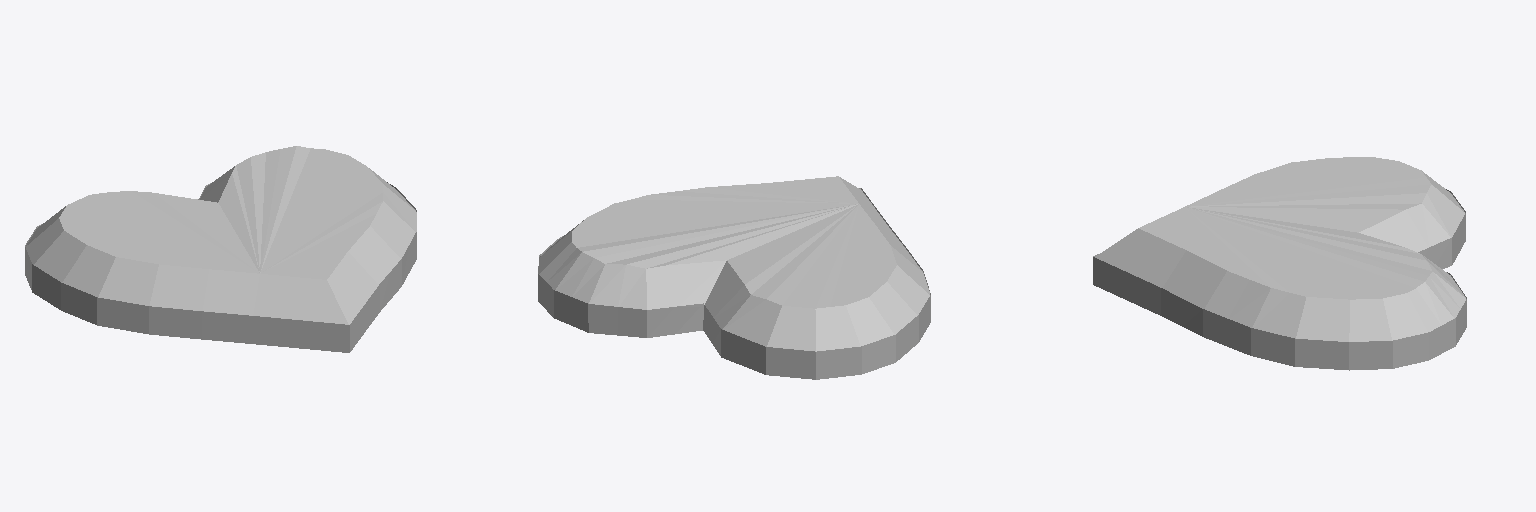
File: heart.obj
The picture shows the model from 3 angles: view 1: azimuth 30°, elevation 25°; view 2: azimuth 150°, elevation 25°; view 3: azimuth 270°, elevation 25°; orthographic projection.
Visible parts, largest first — view 1: Plane; view 2: Plane; view 3: Plane.
Part boxes in pixels (bbox=[...]): Plane: bbox=[25, 146, 416, 352]; Plane: bbox=[538, 176, 930, 379]; Plane: bbox=[1093, 157, 1466, 370].
Bounding box in the file's own units: 4.46 × 0.7154 × 4.11.